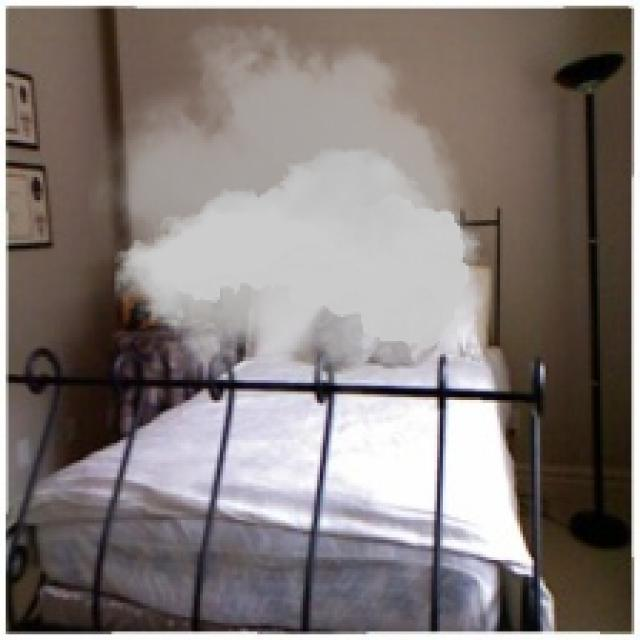smoke: (89, 0, 497, 417)
